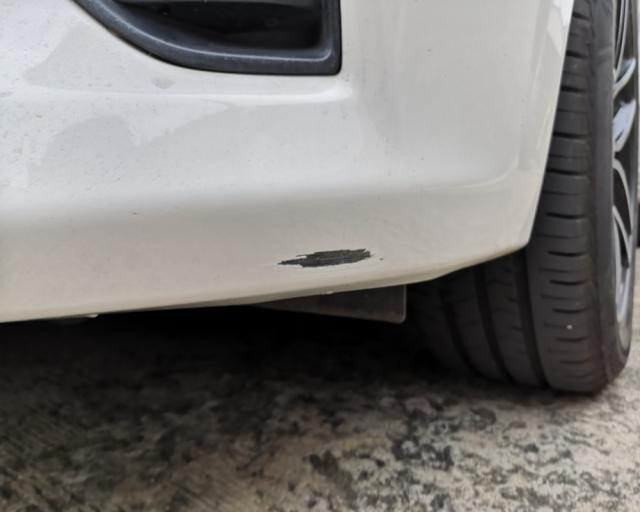scratch: (270, 243, 382, 269)
